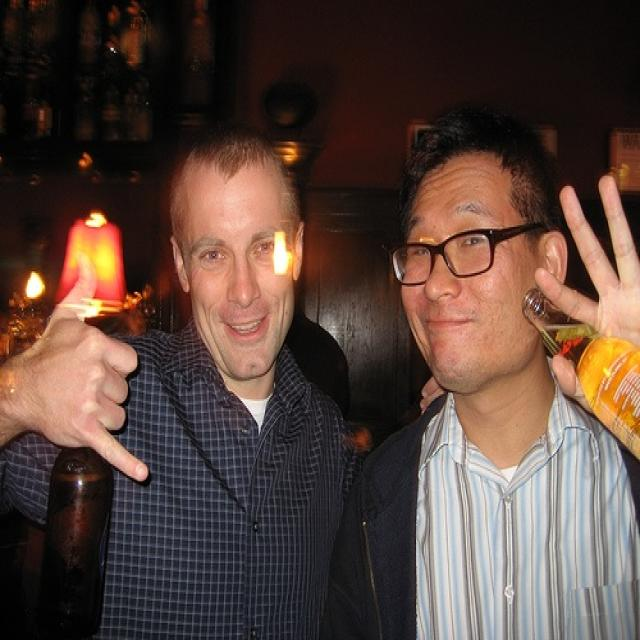bottle: (518, 281, 640, 465), (36, 443, 123, 639)
person: (1, 128, 356, 640), (335, 102, 640, 639)
